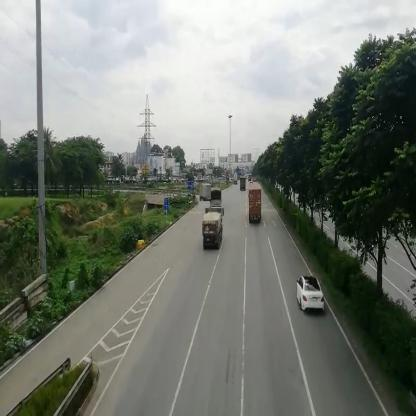car: (297, 275, 325, 312)
container: (250, 182, 263, 222)
truck: (204, 209, 225, 251), (211, 189, 223, 208), (200, 184, 212, 203)
